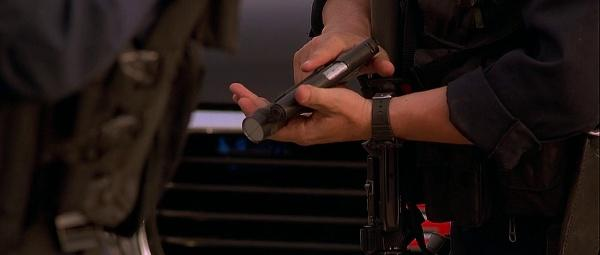Gun: (240, 37, 380, 144)
